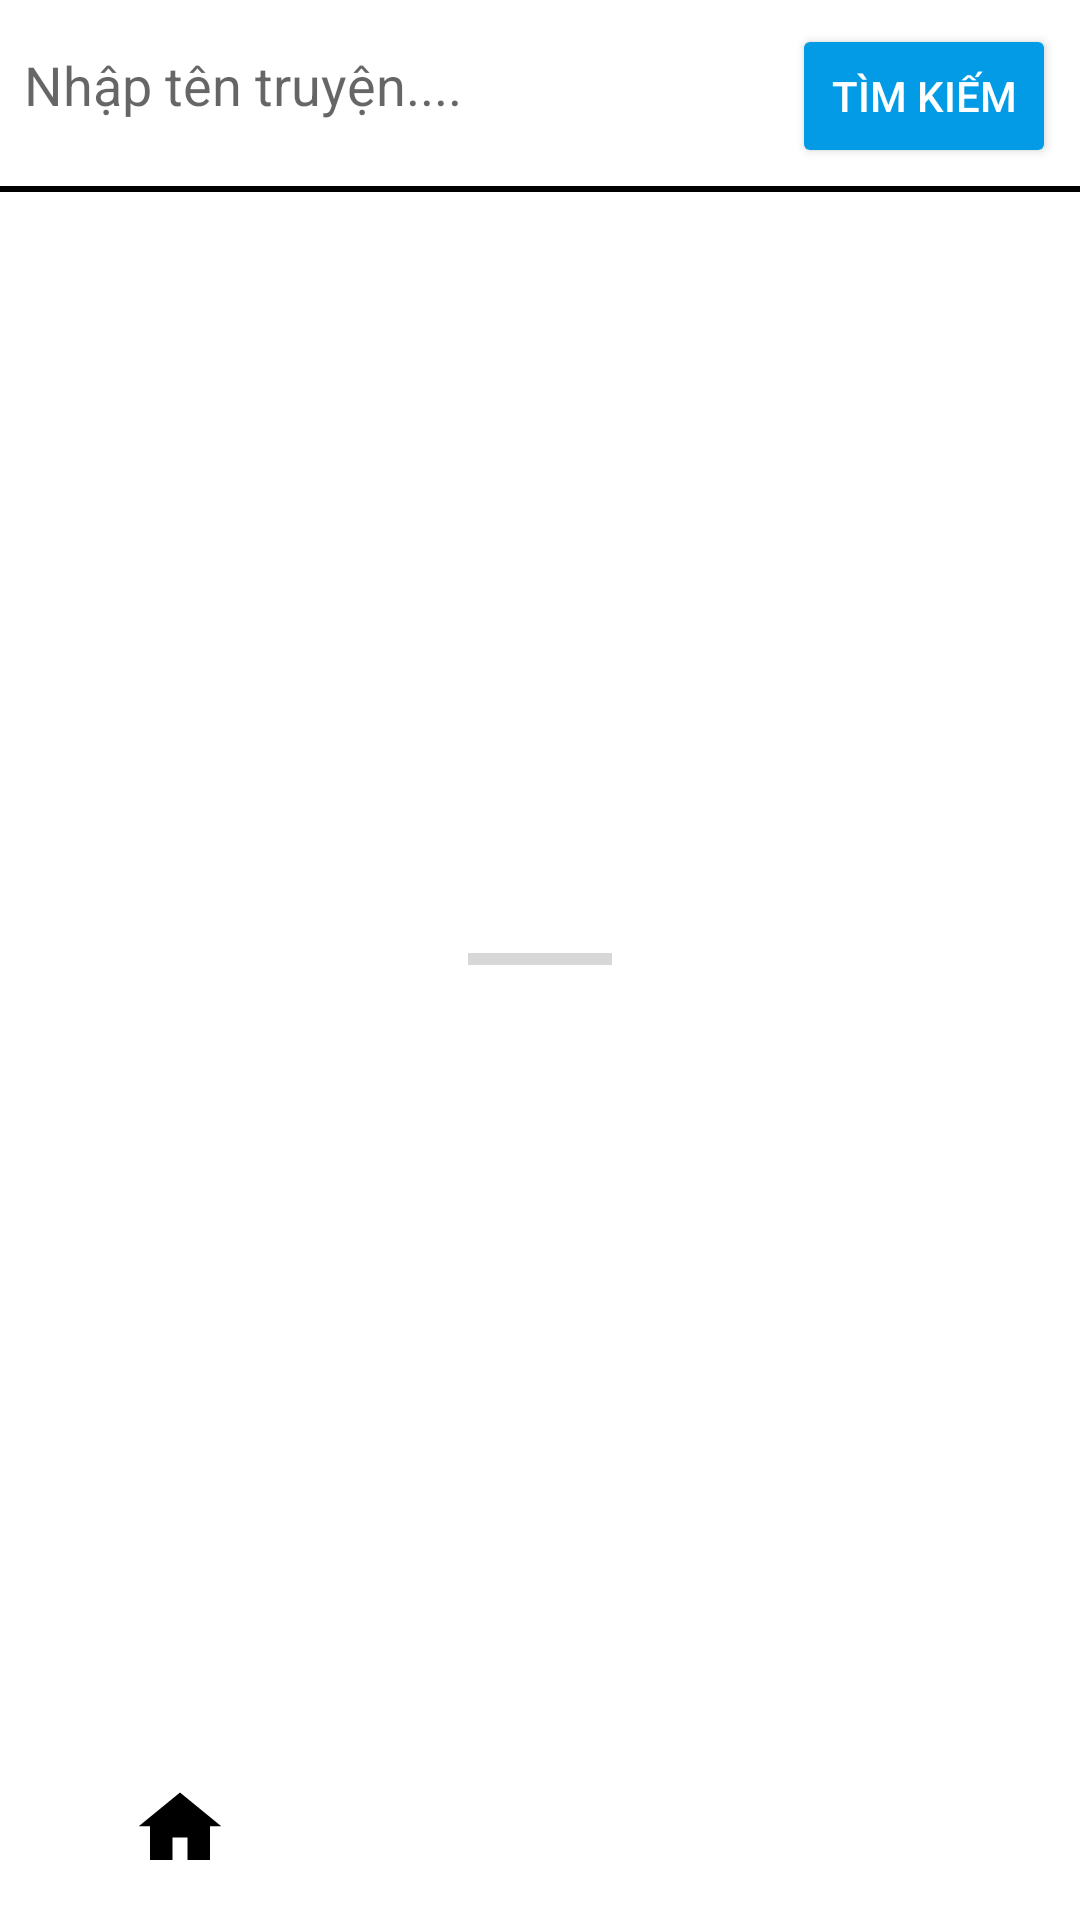

Screen size 1080 x 1920. Icon name, then its center in pixels as [x,y]:
Home: [180,1826]
